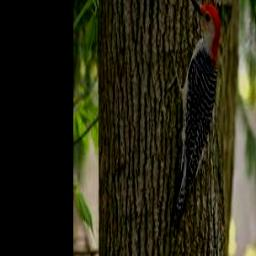Woodpecker: (168, 0, 221, 220)
